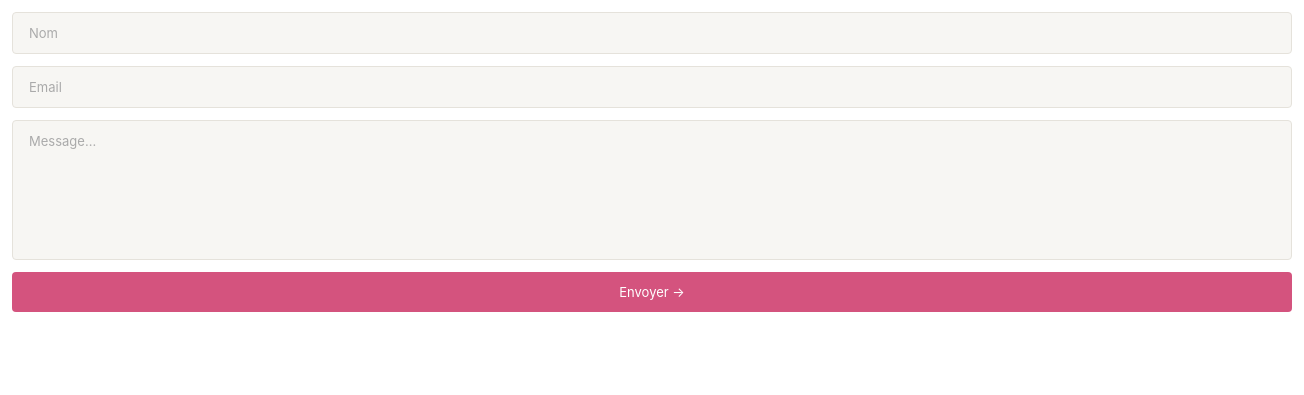
Test: ContactForm › field validation › clears the name error when the user types in the name field
The width and height of the screenshot is (1304, 395).
Click the button "Envoyer →": (652, 292) [12,272,1292,312]
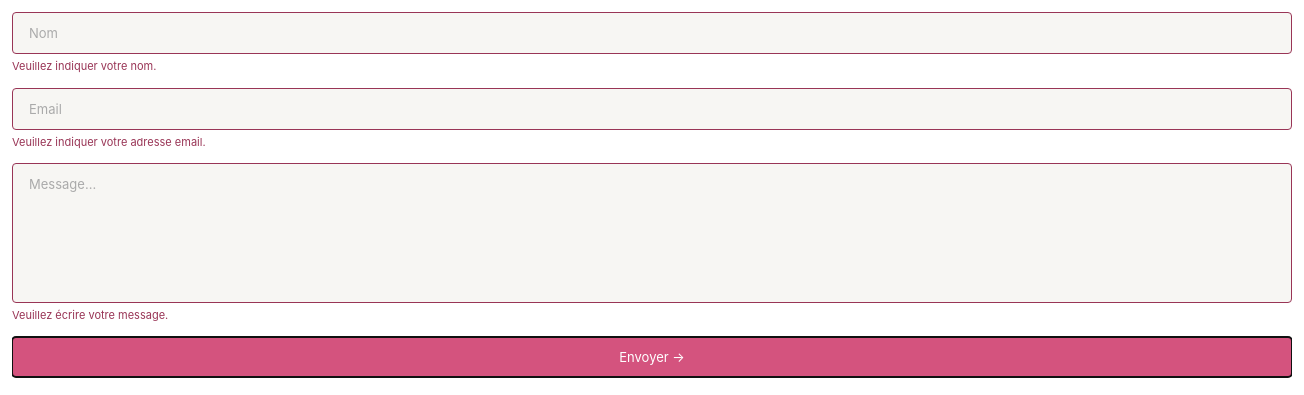
Expected: the text "Veuillez indiquer votre nom." is shown, [12,59,156,73]
In the field with placeholder "Nom": (652, 33) [12,12,1292,54], type "A"
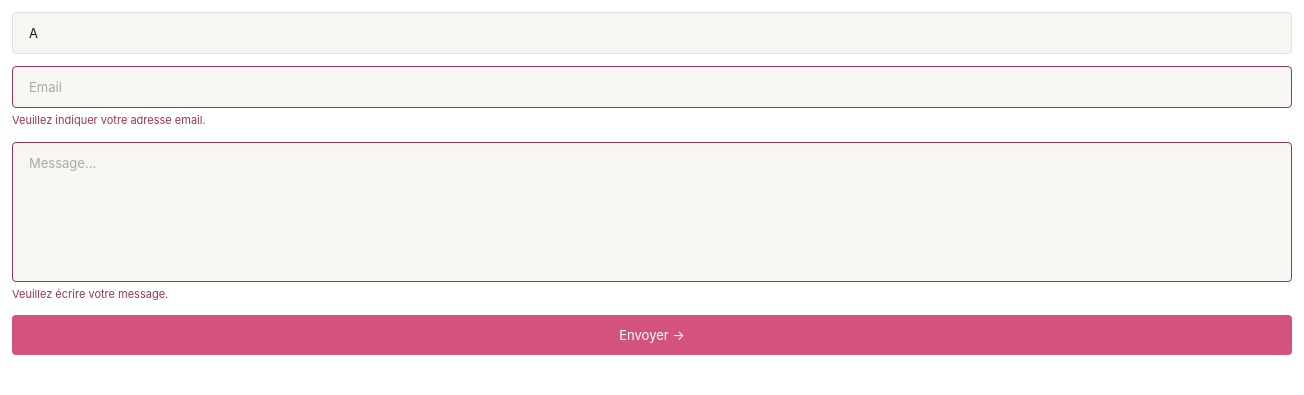
Expected: the text "Veuillez indiquer votre nom." is gone
